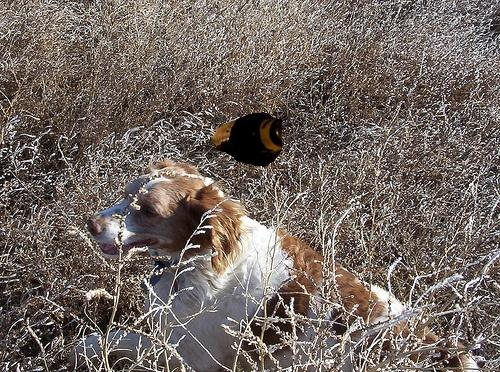tampered: (213, 113, 282, 167)
